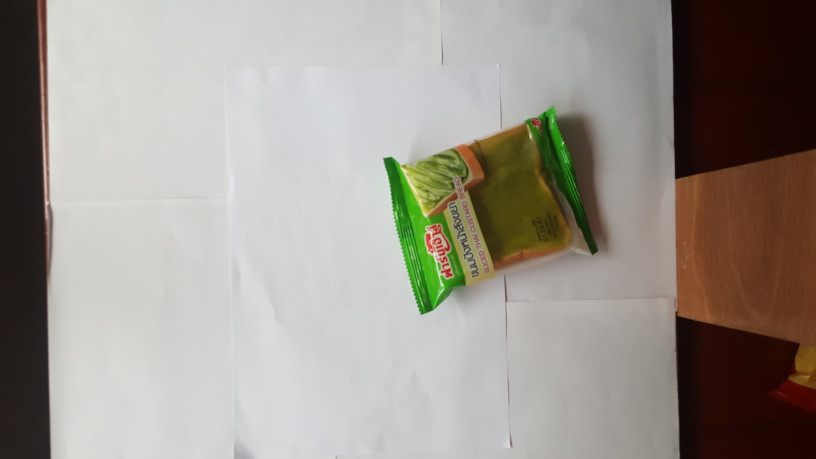farmhouse-bread-pandan: (373, 111, 604, 316)
